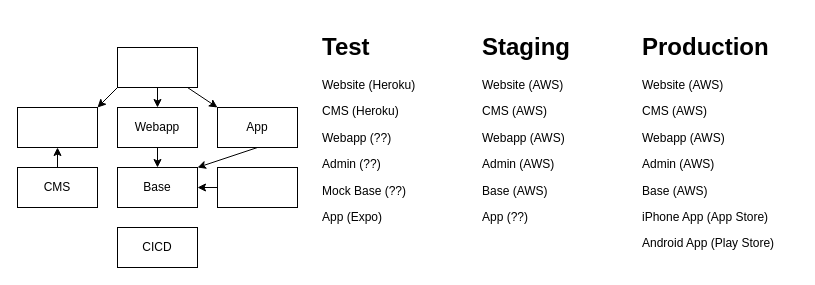
Image size: 815x285. Some labels were removed from this diagram. Each missing label, with the box of its shape:
Admin: (216, 166, 298, 208)
UI: (116, 46, 198, 88)
Website: (16, 106, 98, 148)
